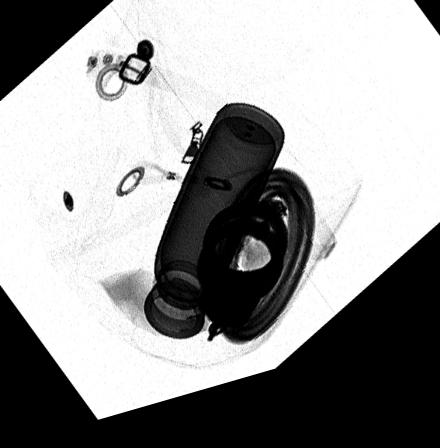HandCuffs: (196, 213, 288, 354)
